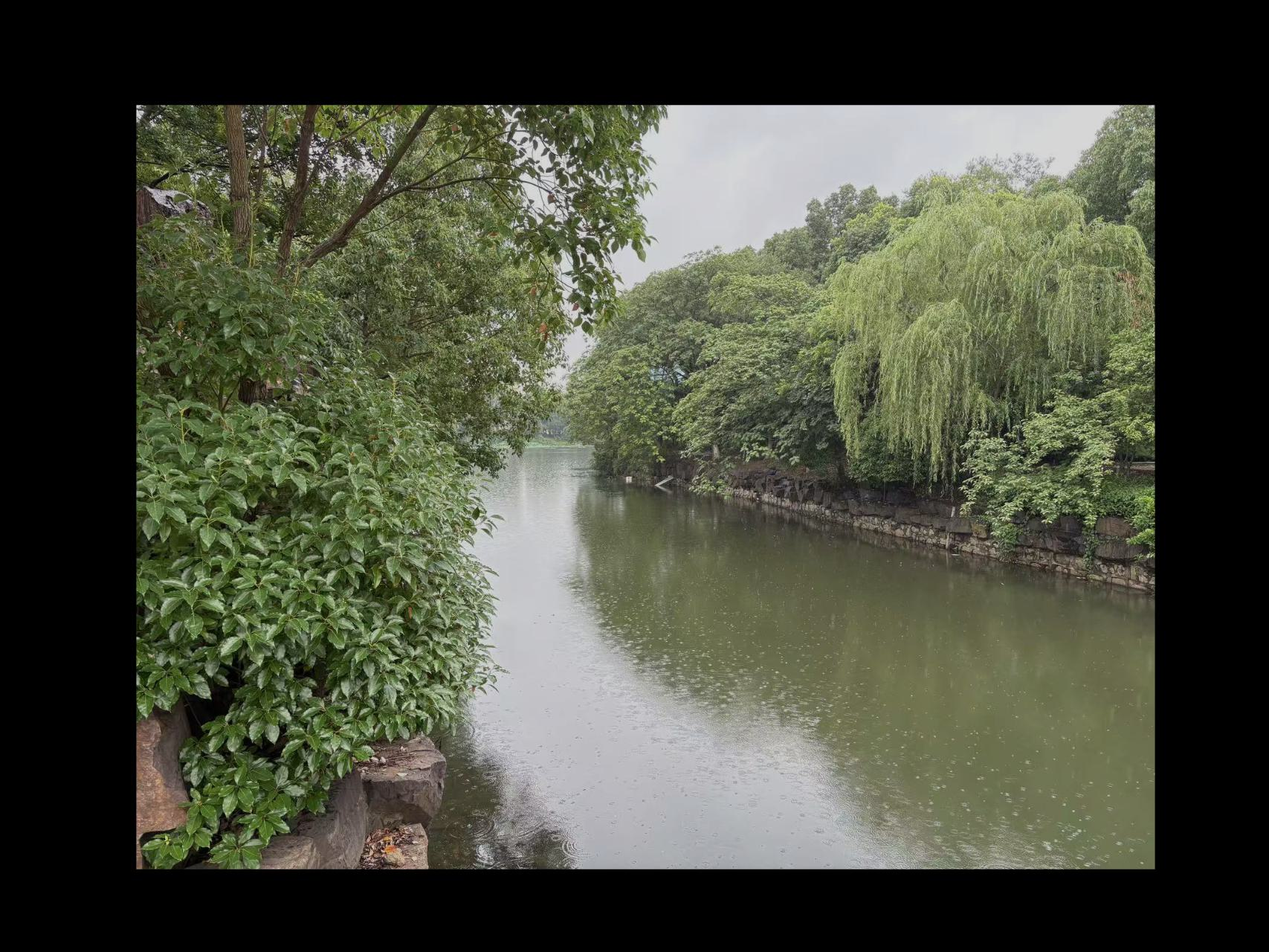Plastic wastes: (624, 475, 633, 483), (949, 553, 960, 556)
